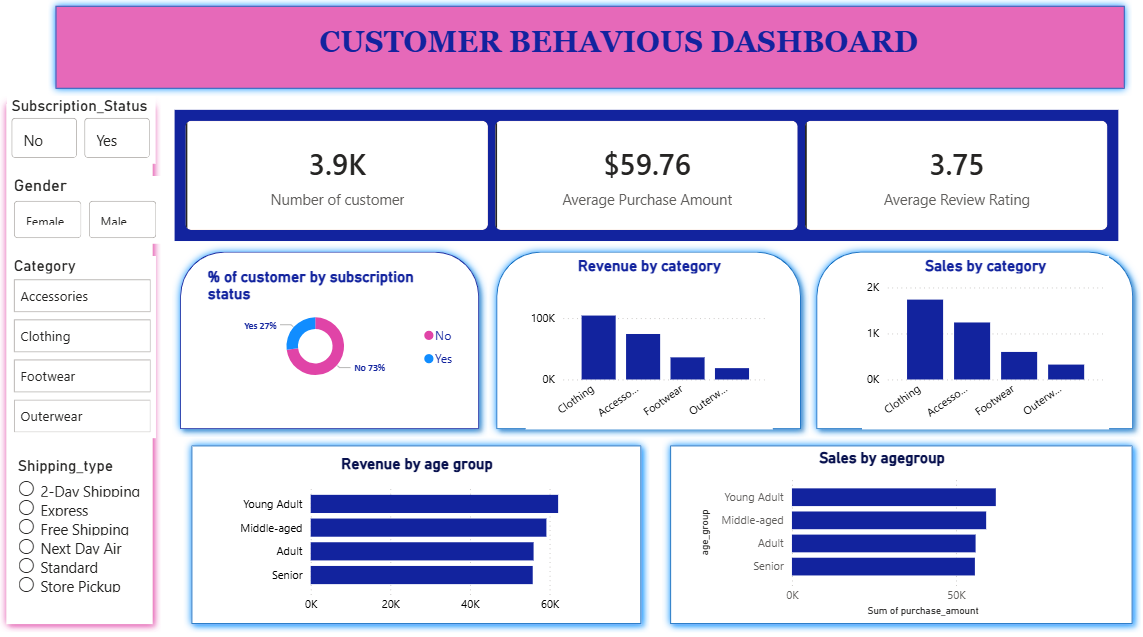

The dashboard page shown, as its layout file describes it:
{"tool":"powerbi","page":{"name":"Page 1","canvas":[1280,720],"ordinal":0},"visuals":[{"type":"cardVisual","fields":{"Data":["customer_behaviour customer.Number of customer","customer_behaviour customer.Average Purchase Amount","customer_behaviour customer.Average Review Rating"]},"box":[184.6,121.1,1066.3,174.9],"z":0},{"type":"shape","box":[61.7,13.7,1189.7,107],"z":1000},{"type":"textbox","box":[352.7,38.4,671,57.6],"z":2000},{"type":"shape","box":[198.1,282.5,346.1,212.8],"z":3000},{"type":"shape","box":[896.3,282.5,365.6,212.8],"z":4000},{"type":"shape","box":[544.2,282.5,352.2,212.8],"z":5000},{"type":"donutChart","title":"% of customer by subscription status","fields":{"Y":["CountNonNull(customer_behaviour customer.customer_id)"],"Category":["customer_behaviour customer.subscription_status"]},"box":[232.3,309.4,287.4,132.1],"z":6000},{"type":"clusteredColumnChart","title":"Revenue by category","fields":{"Y":["Sum(customer_behaviour customer.purchase_amount)"],"Category":["customer_behaviour customer.category"]},"box":[585.7,295.9,271.5,190.8],"z":7000},{"type":"clusteredColumnChart","title":"Sales by category","fields":{"Y":["CountNonNull(customer_behaviour customer.customer_id)"],"Category":["customer_behaviour customer.category"]},"box":[955,295.9,271.5,190.8],"z":8000},{"type":"shape","box":[6.9,111.1,188,598.3],"z":9000},{"type":"advancedSlicerVisual","title":"Subscription_Status","fields":{"Values":["customer_behaviour customer.subscription_status"]},"box":[16.5,120.8,168.8,74.1],"z":10000},{"type":"advancedSlicerVisual","title":"Gender","fields":{"Values":["customer_behaviour customer.gender"]},"box":[19.2,208.6,166,74.1],"z":11000},{"type":"advancedSlicerVisual","title":"Category","fields":{"Values":["customer_behaviour customer.category"]},"box":[19.2,296.4,160.5,200.3],"z":12000},{"type":"listSlicer","title":"Shipping_type","fields":{"Values":["customer_behaviour customer.shipping_type"]},"box":[23.3,516,148.2,181.1],"z":13000},{"type":"hundredPercentStackedBarChart","fields":{"Y":["Sum(customer_behaviour customer.purchase_amount)"],"Category":["customer_behaviour customer.age_group"]},"box":[262.1,507.7,408.9,189.4],"z":14000},{"type":"textbox","box":[198,495,346,214],"z":15000},{"type":"shape","box":[209.9,495.4,511.8,214.1],"z":16000},{"type":"shape","box":[735.5,495.4,525.6,214.1],"z":17000},{"type":"clusteredBarChart","title":"Sales by agegroup","fields":{"Category":["customer_behaviour customer.age_group"],"Y":["Sum(customer_behaviour customer.purchase_amount)"]},"box":[772.6,507.7,408.9,189.4],"z":18000},{"type":"clusteredBarChart","title":"Revenue by age group ","fields":{"Category":["customer_behaviour customer.age_group"],"Y":["Sum(customer_behaviour customer.purchase_amount)"]},"box":[262.1,514.6,408.9,182.5],"z":19000}]}

Visuals, with their boxes in screenshot pixels (x1, y1, x2, y2), scaled from the page's 1280x720 canvas onto the 1143x637 screenshot:
cardVisual - customer_behaviour customer.Number of customer x customer_behaviour customer.Average Purchase Amount: 165/107/1117/262
shape: 55/12/1117/107
textbox: 315/34/914/85
shape: 177/250/486/438
shape: 800/250/1127/438
shape: 486/250/800/438
"% of customer by subscription status" donutChart: 207/274/464/391
"Revenue by category" clusteredColumnChart: 523/262/765/431
"Sales by category" clusteredColumnChart: 853/262/1095/431
shape: 6/98/174/628
"Subscription_Status" advancedSlicerVisual: 15/107/165/172
"Gender" advancedSlicerVisual: 17/185/165/250
"Category" advancedSlicerVisual: 17/262/160/439
"Shipping_type" listSlicer: 21/457/153/617
hundredPercentStackedBarChart - Sum(customer_behaviour customer.purchase_amount) x customer_behaviour customer.age_group: 234/449/599/617
textbox: 177/438/486/627
shape: 187/438/644/628
shape: 657/438/1126/628
"Sales by agegroup" clusteredBarChart: 690/449/1055/617
"Revenue by age group " clusteredBarChart: 234/455/599/617
